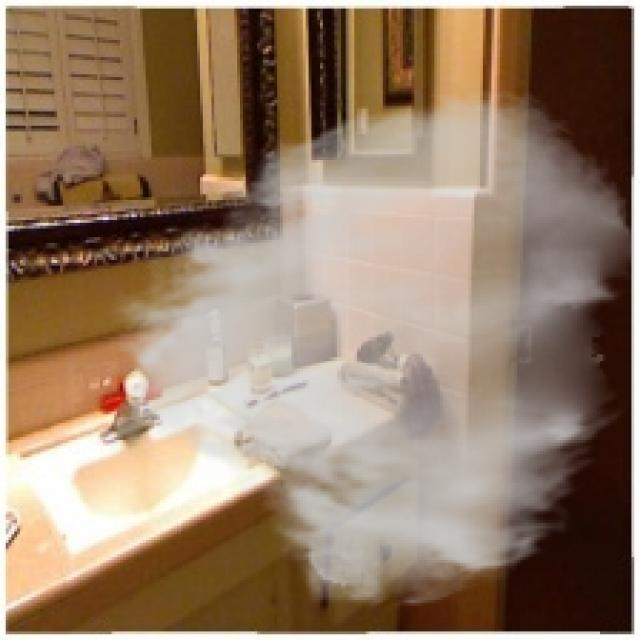Smoke: (97, 86, 637, 614)
